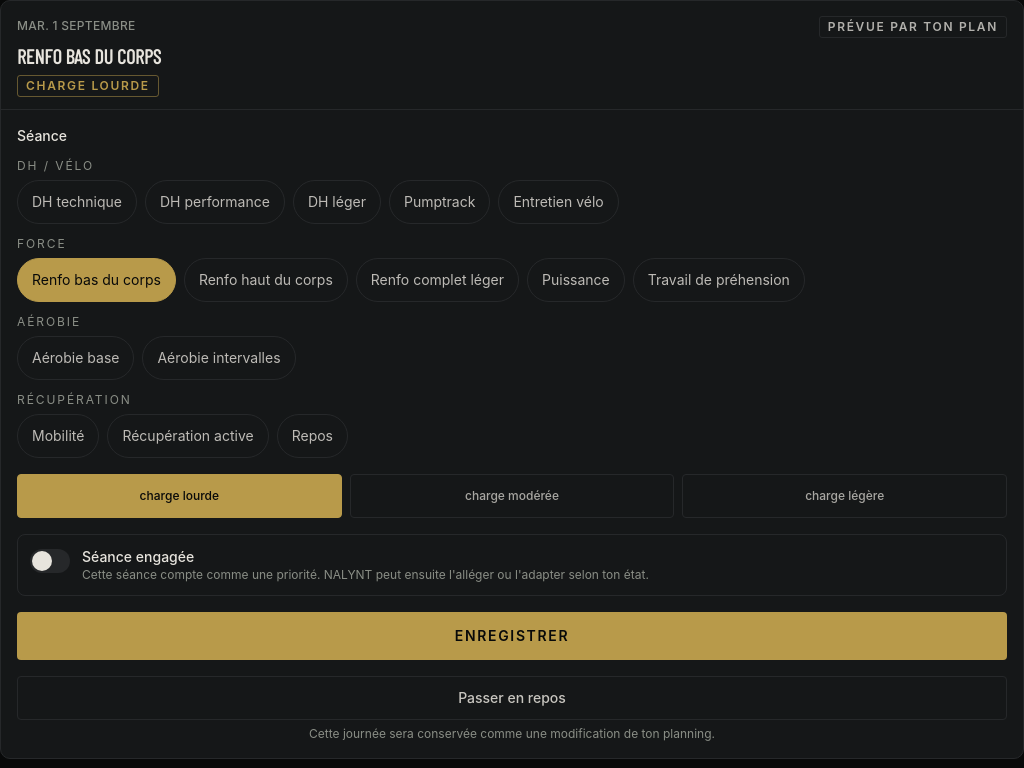
Test: PlanningDayCard — create/edit and day actions (J, K, L, M, N) › a plan day offers Passer en repos (never a delete that the next update would undo), saved as the athlete's REST
Check: the text "Cette journée sera conservée comme une modification de ton planning." is shown, box left=309, top=726, right=715, bottom=741
Click the button "Passer en repos".
click(512, 698)  # box left=17, top=676, right=1007, bottom=720
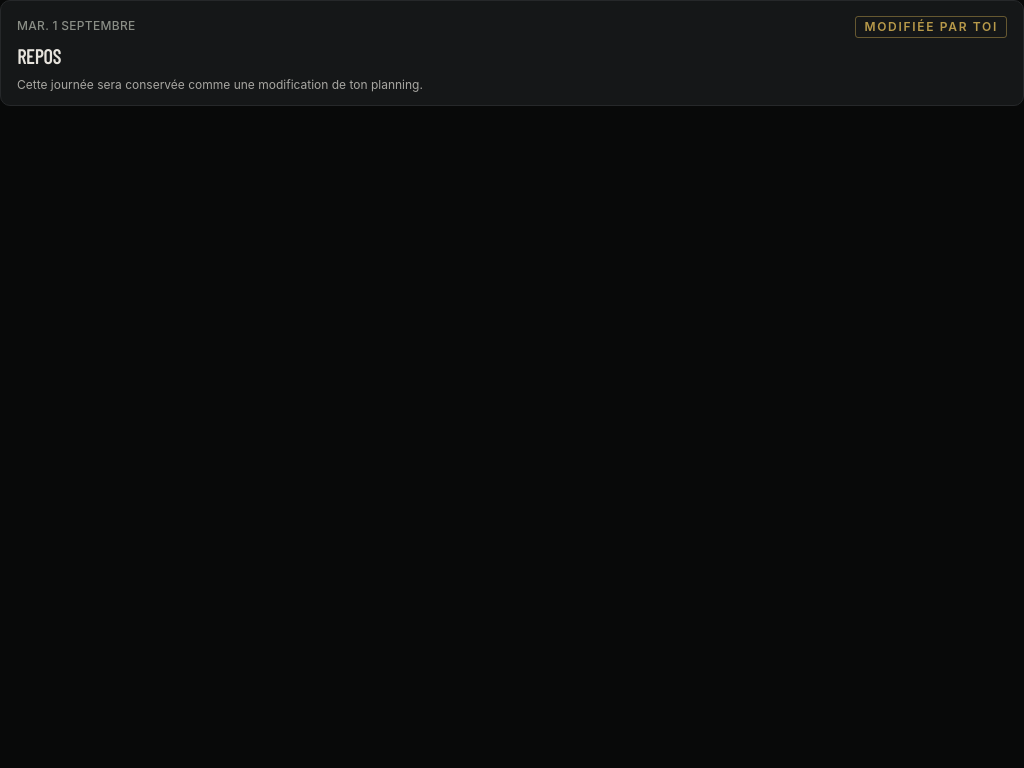
Check: the text "Modifiée par toi" is shown, box left=856, top=16, right=1007, bottom=38
